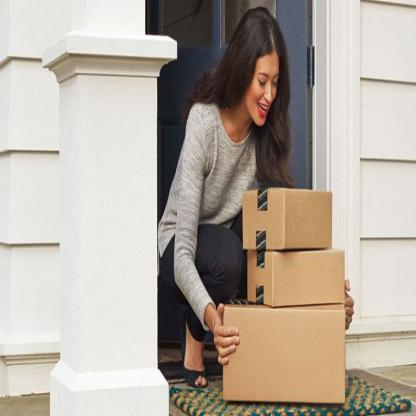package: (223, 302, 345, 404), (247, 247, 346, 310), (242, 187, 333, 254)
